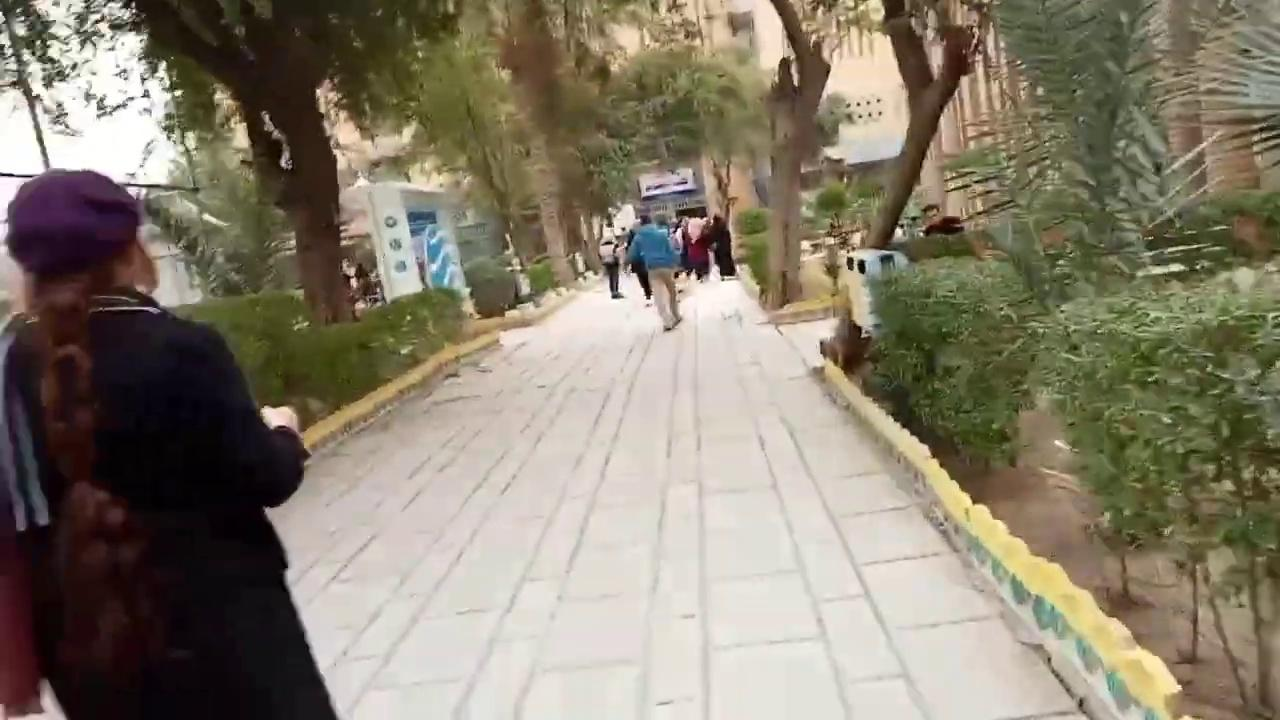person: (0, 168, 338, 719)
tree: (3, 0, 1276, 328), (108, 0, 472, 326), (618, 0, 996, 310), (940, 0, 1276, 306), (323, 0, 631, 293), (484, 2, 633, 285), (605, 41, 774, 283), (842, 0, 995, 249), (730, 0, 853, 309), (0, 0, 102, 172)
